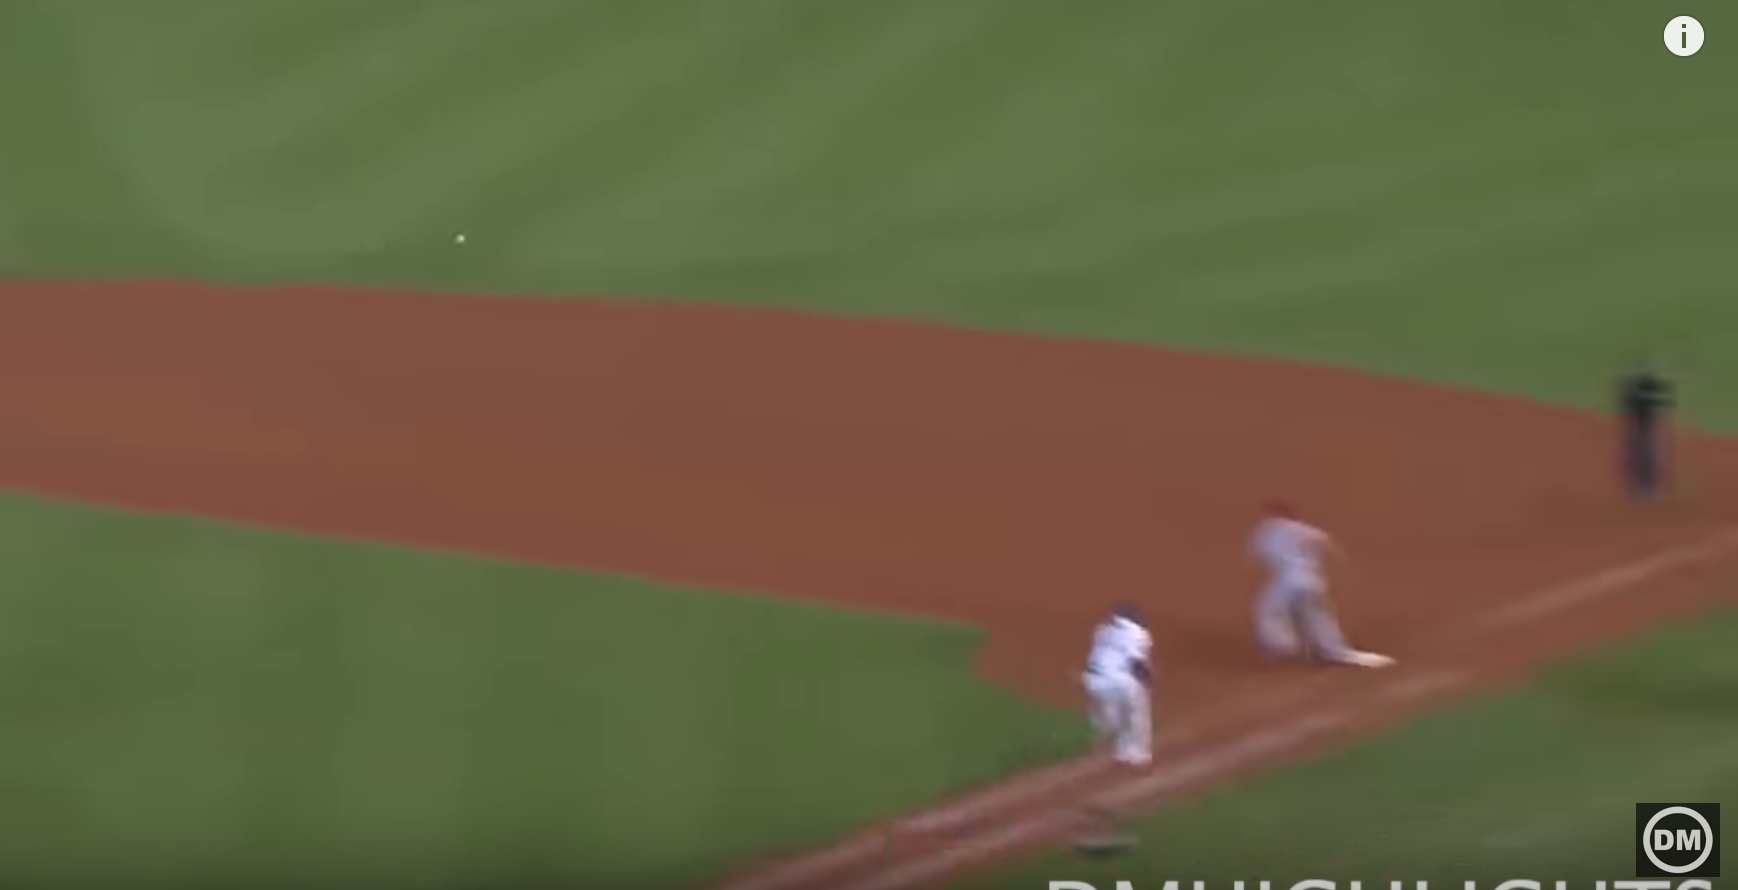ball: (448, 227, 469, 250)
